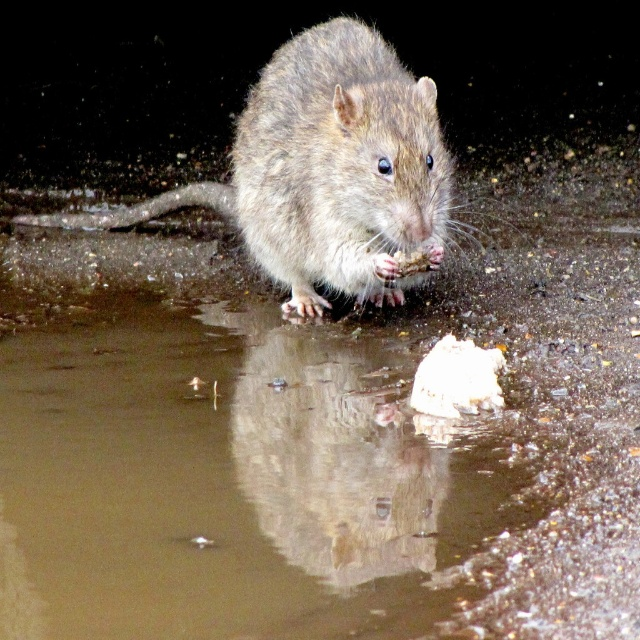Mouse: (4, 13, 538, 318)
